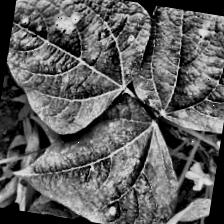Bean Rust: (12, 83, 190, 224), (0, 0, 148, 138), (133, 5, 224, 140)
